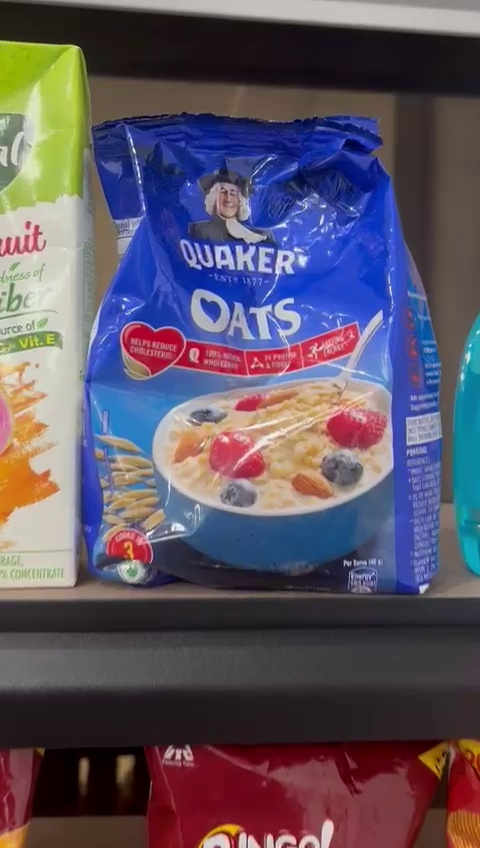Quaker Oats: (88, 116, 439, 589)
